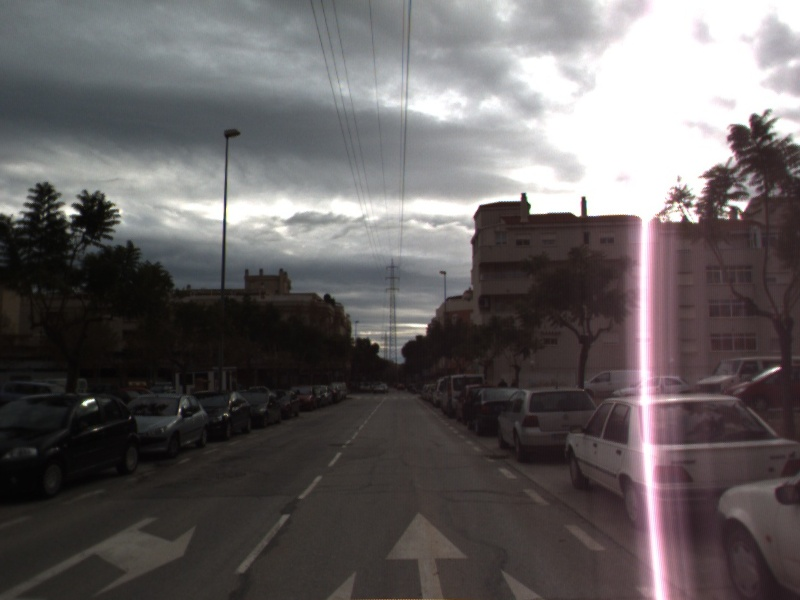STRAIGHT: (380, 507, 474, 600)
